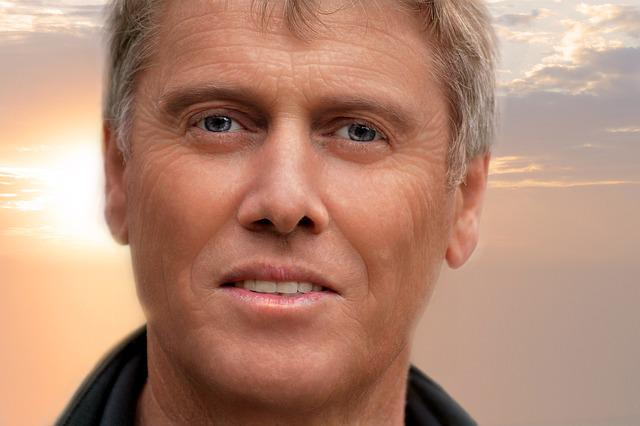human: (57, 1, 500, 425)
